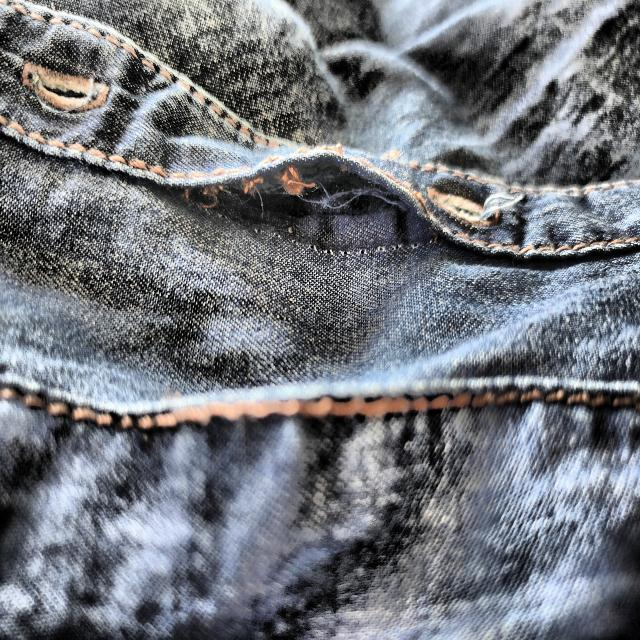seam: (155, 134, 451, 260)
